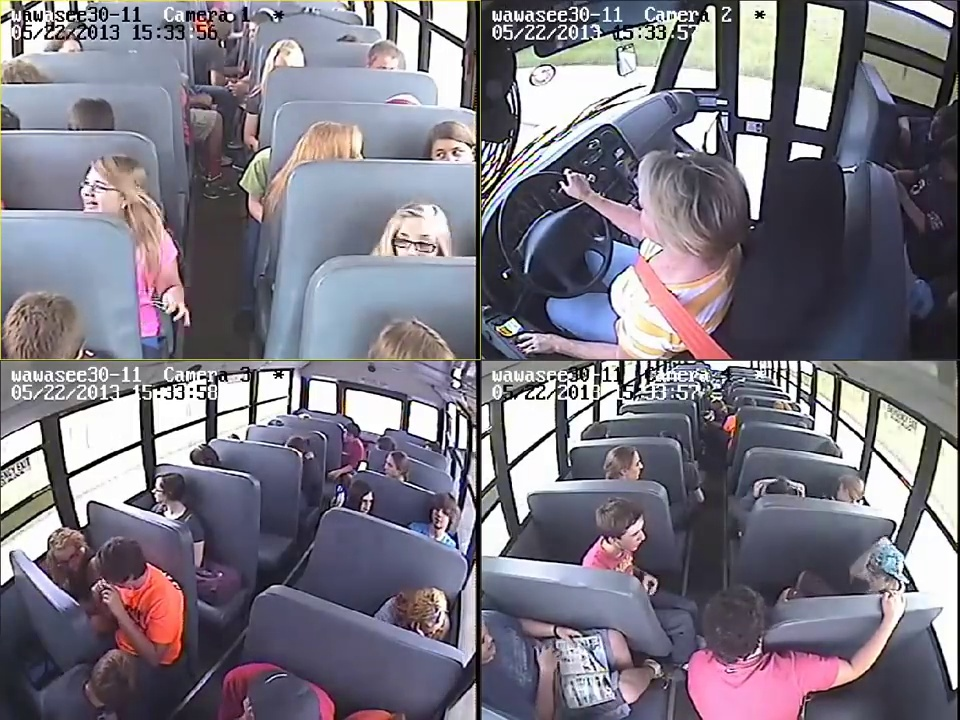face: (394, 212, 443, 258), (82, 167, 124, 215), (617, 511, 650, 560), (427, 127, 468, 160)
